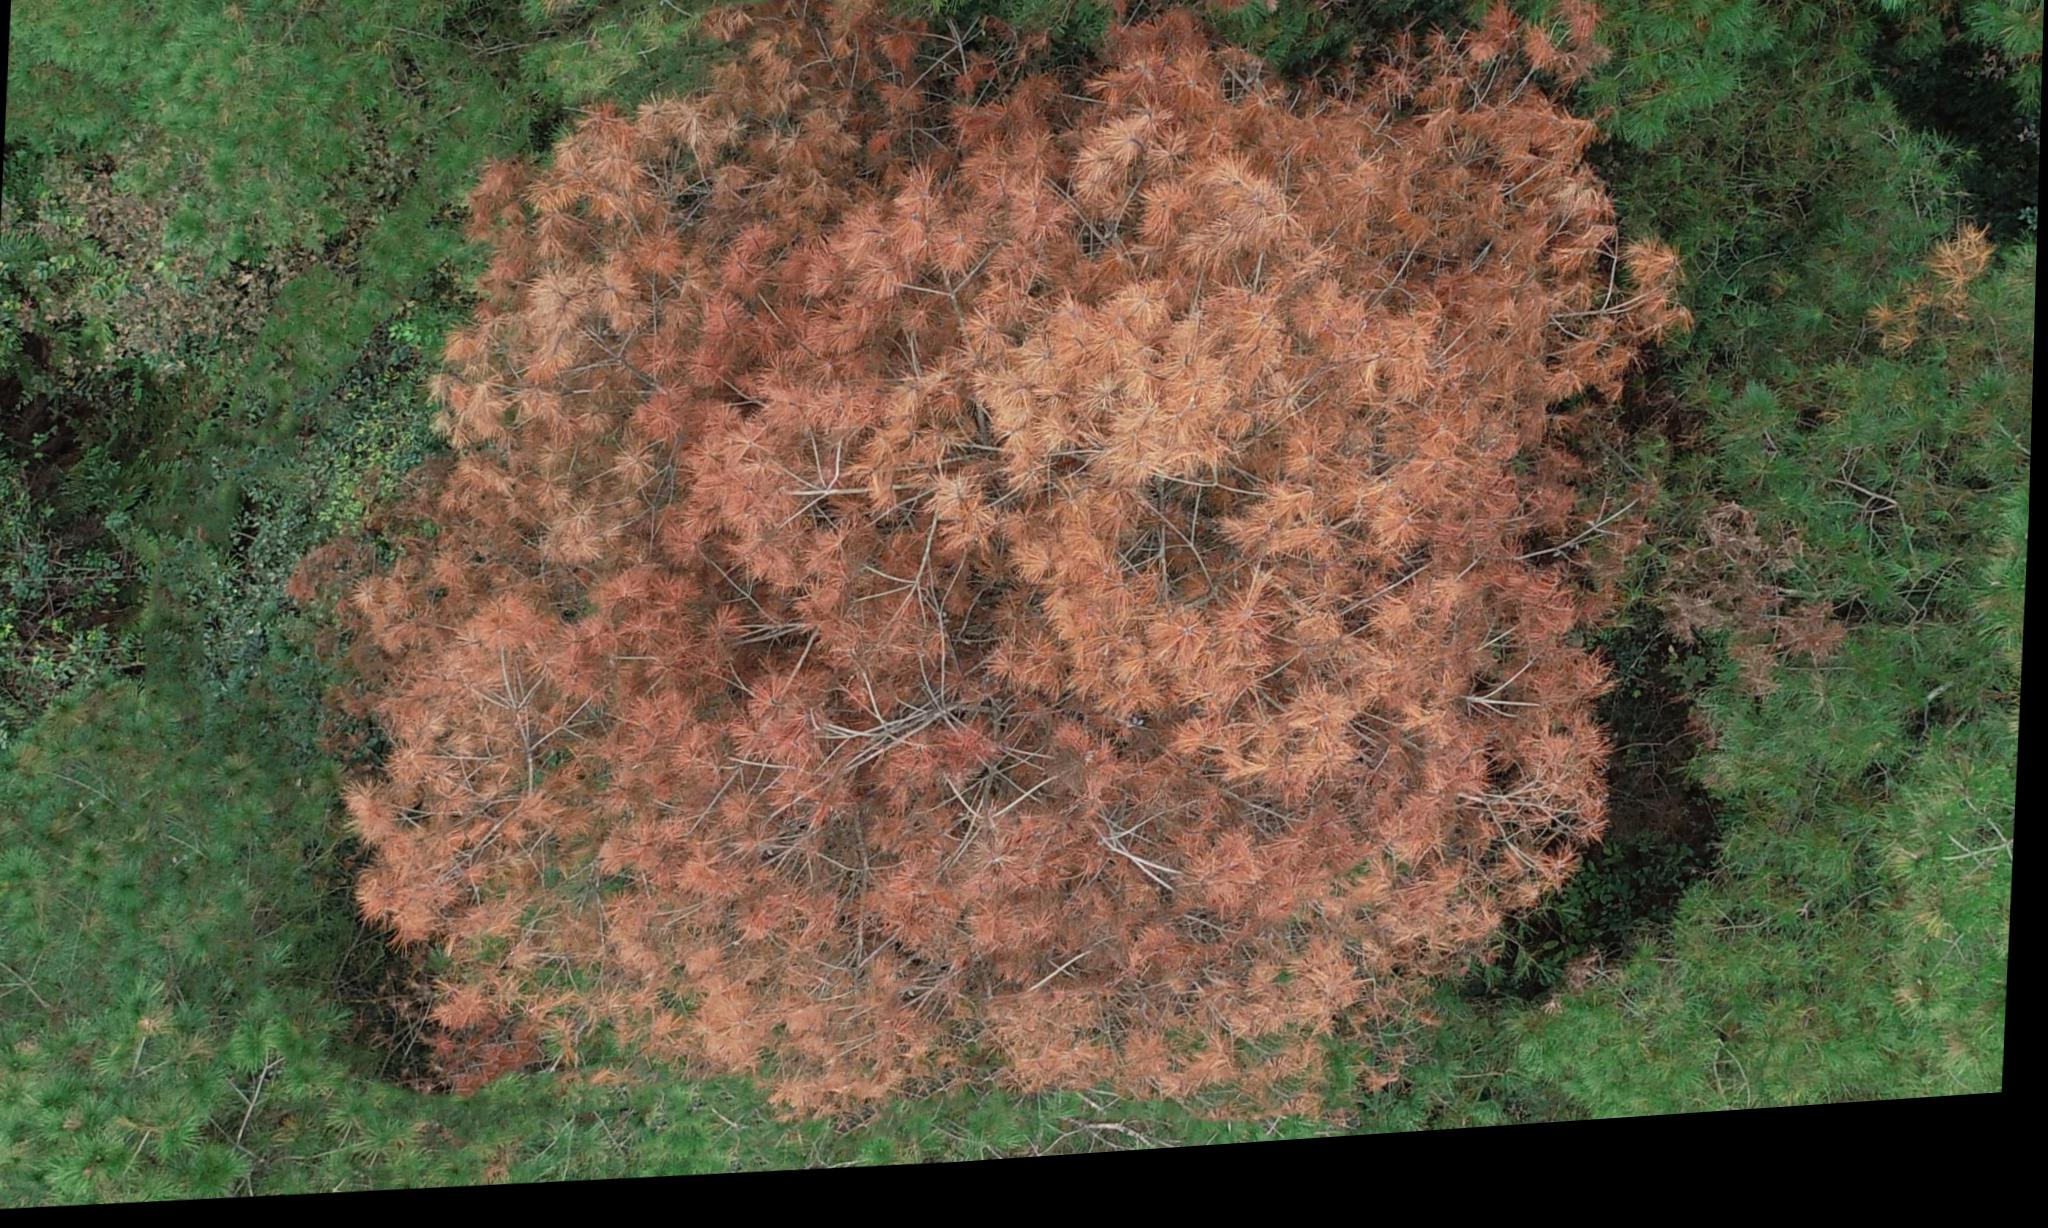heavy: (332, 0, 1769, 1132)
